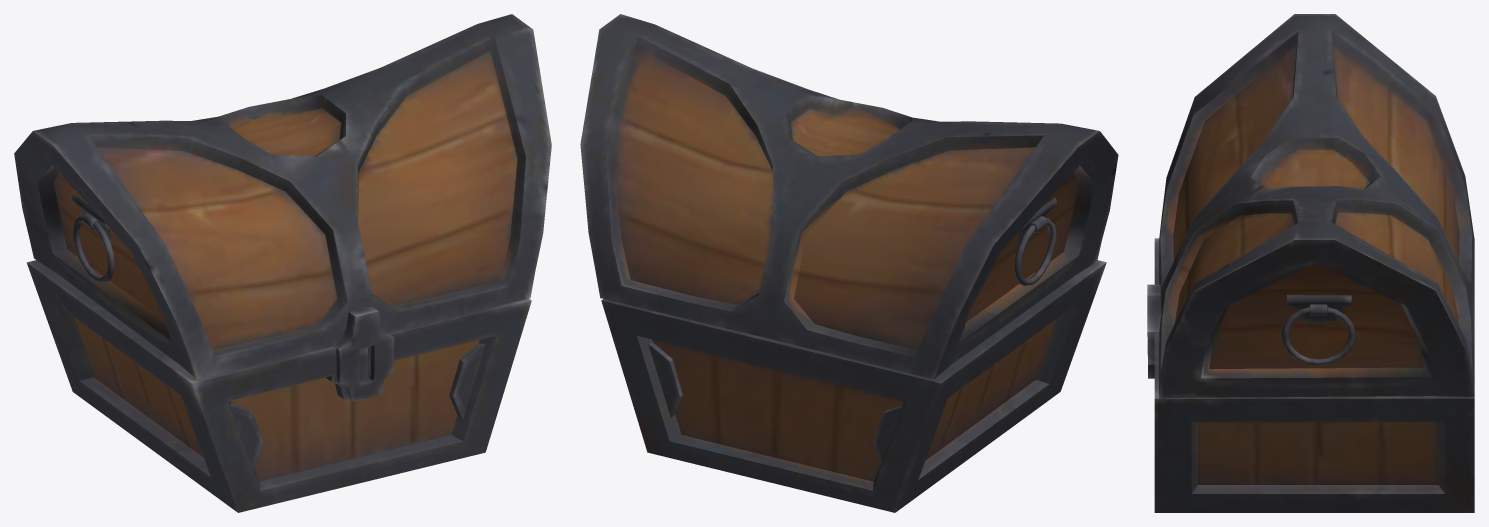
Rendered from unusual.glb.
The picture shows the model from 3 angles, left to right: view 1: azimuth 30°, elevation 25°; view 2: azimuth 150°, elevation 25°; view 3: azimuth 270°, elevation 25°; orthographic projection. The views are drawn at different scales.
Parts seen in each view (by area): view 1: Top, EnvUnit_TreasureBox_Lv2_Bot1; view 2: Top, EnvUnit_TreasureBox_Lv2_Bot1; view 3: Top, EnvUnit_TreasureBox_Lv2_Bot1.
Part boxes in pixels (left/top/right/bottom): Top: left=14, top=14, right=551, bottom=401; EnvUnit_TreasureBox_Lv2_Bot1: left=26, top=260, right=531, bottom=512; Top: left=580, top=14, right=1118, bottom=379; EnvUnit_TreasureBox_Lv2_Bot1: left=601, top=260, right=1106, bottom=512; Top: left=1147, top=14, right=1474, bottom=398; EnvUnit_TreasureBox_Lv2_Bot1: left=1154, top=238, right=1474, bottom=512.
Bounding box in the file's own units: 1.88 × 1.28 × 1.15.
1 material, 1 textured.
